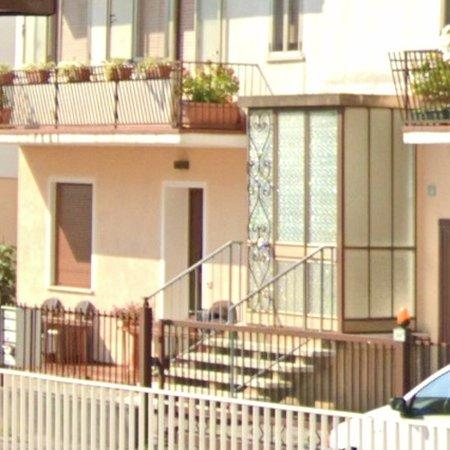stairs: (136, 321, 335, 406)
